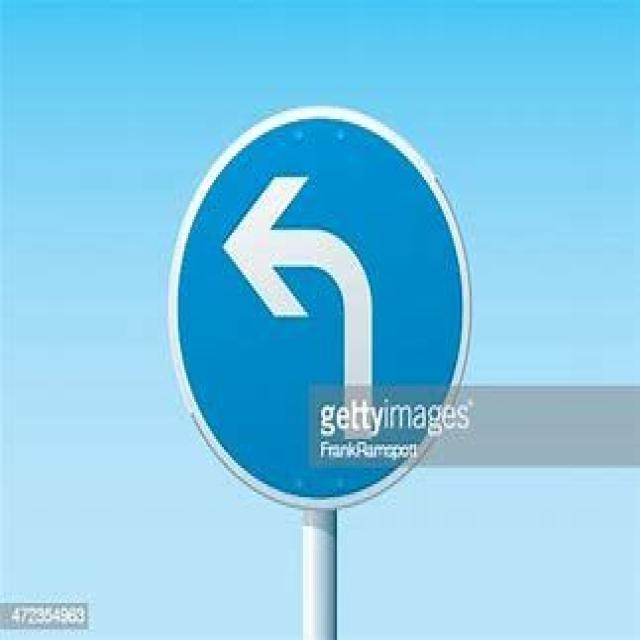compulsary turn left ahead: (164, 104, 473, 510)
